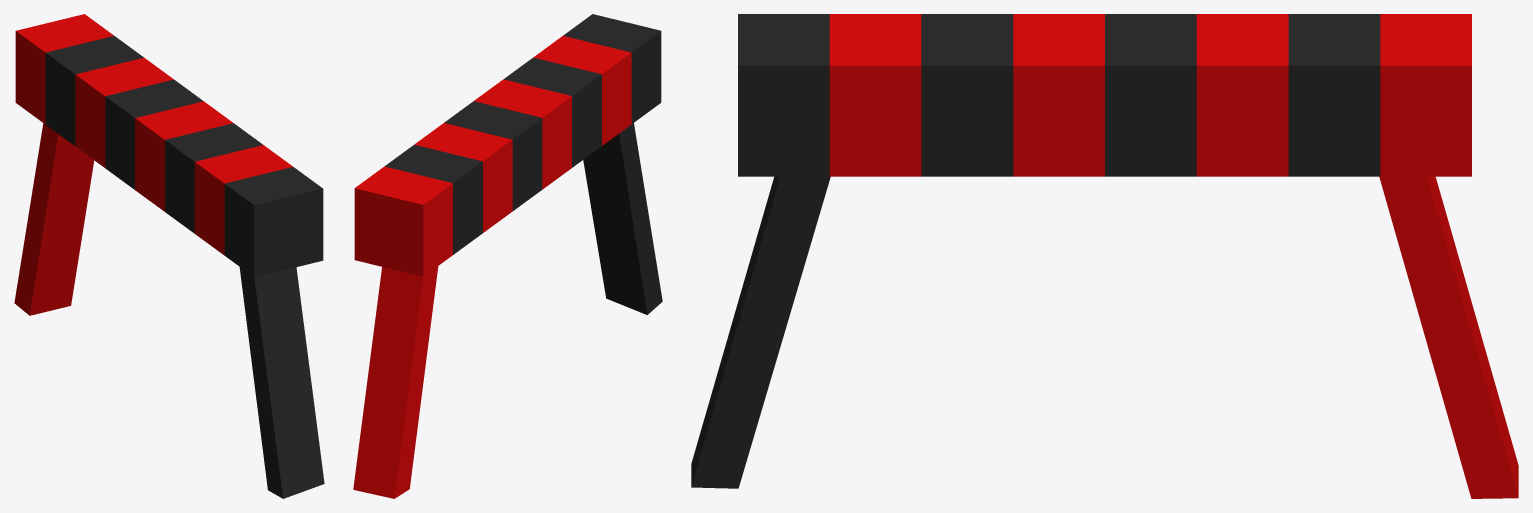
The model's file is Barrier2.fbx.
3 views of the same model, side by side, from view 1: azimuth 30°, elevation 25°; view 2: azimuth 150°, elevation 25°; view 3: azimuth 270°, elevation 25° (orthographic). The views are drawn at different scales.
Parts seen in each view (by area): view 1: Cube, Cube2, Cube1; view 2: Cube, Cube1, Cube2; view 3: Cube, Cube1, Cube2.
Part boxes in pixels (x1,y1,x2,y2): Cube: [15, 14, 323, 277]; Cube2: [239, 267, 324, 498]; Cube1: [14, 123, 94, 315]; Cube: [354, 14, 661, 276]; Cube1: [353, 266, 438, 498]; Cube2: [583, 123, 662, 314]; Cube: [738, 14, 1471, 176]; Cube1: [1379, 176, 1518, 498]; Cube2: [691, 176, 830, 488].
Size of the model in its own units: 100 by 400 by 676.
